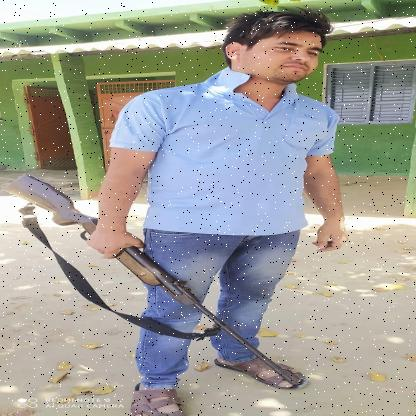rifle: (2, 173, 310, 387)
